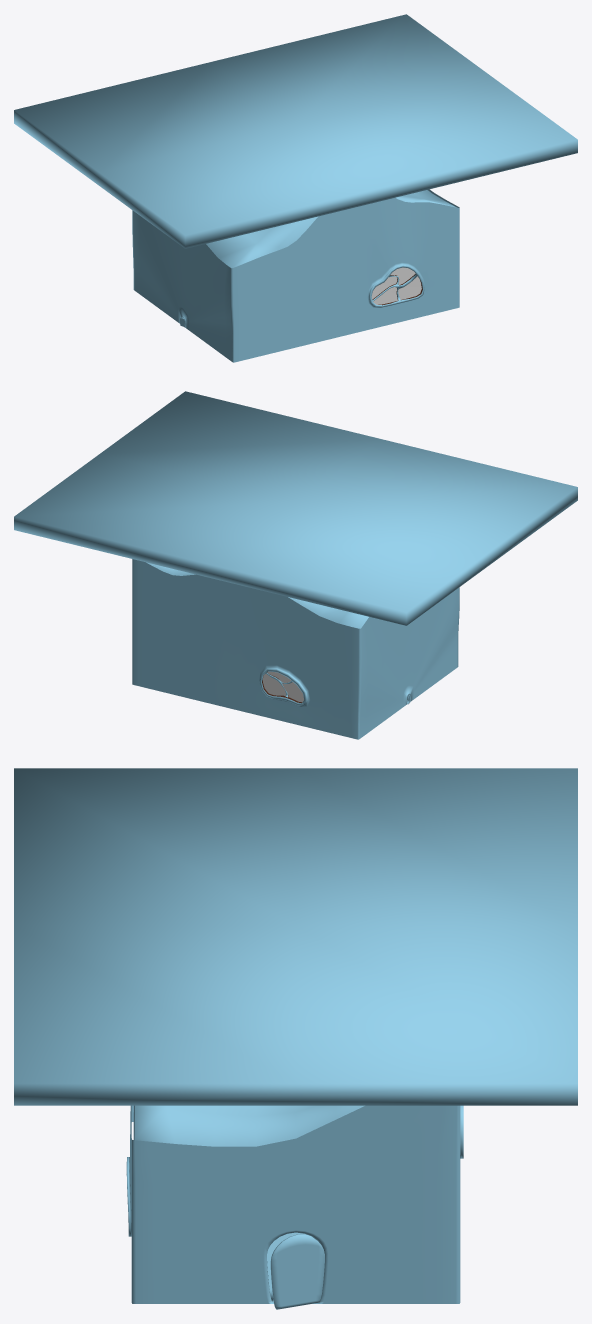
File: Alicia_Kitchen_NoAnim_v5.fbx
The picture shows the model from 3 angles, top to bottom: view 1: azimuth 30°, elevation 25°; view 2: azimuth 150°, elevation 25°; view 3: azimuth 270°, elevation 25°; orthographic projection. The views are drawn at different scales.
Visible parts, largest first — view 1: House; view 2: House; view 3: House, BigDoor.
Boxes of the visible parts, x1,y1,x2,y2 form: House: (14,14,577,362); House: (14,391,577,739); House: (14,768,577,1303); BigDoor: (270,1234,324,1309).
Bounding box in the file's own units: 23.31 × 13.06 × 30.84.
